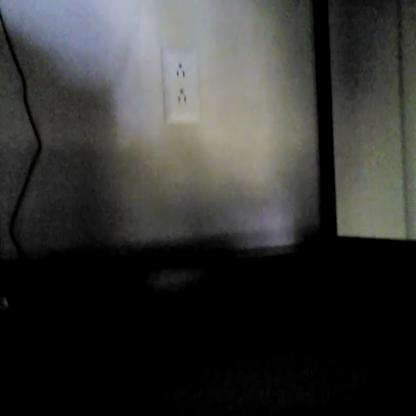OUTLET: (164, 47, 200, 124)
